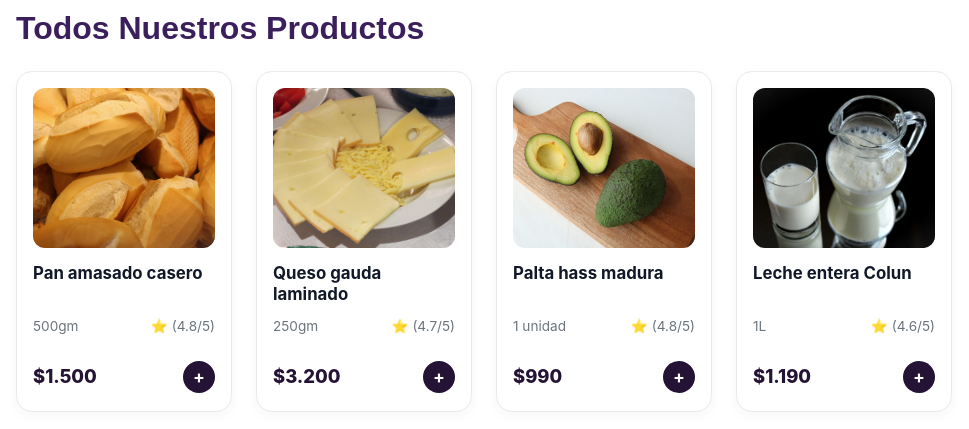
Test: Pruebas unitarias para Catálogo de Productos › agrega un producto nuevo al carrito e incrementa su cantidad al presionar +
# Primer clic en 'Pan amasado casero'
Click the button named "Aumentar cantidad": (199, 377) x1=183 y1=361 x2=215 y2=393
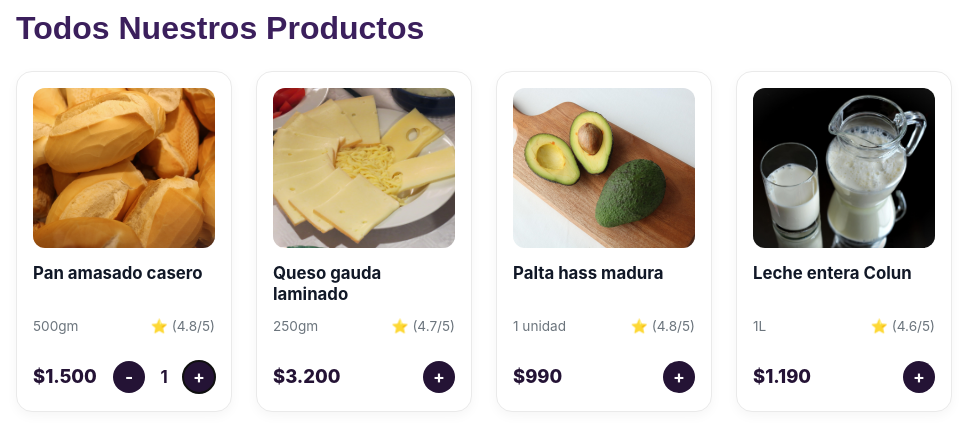
Expected: the text "1" is shown, x1=160 y1=366 x2=168 y2=386
# Segundo clic en 'Pan amasado casero'
Click the button named "Aumentar cantidad": (199, 377) x1=183 y1=361 x2=215 y2=393
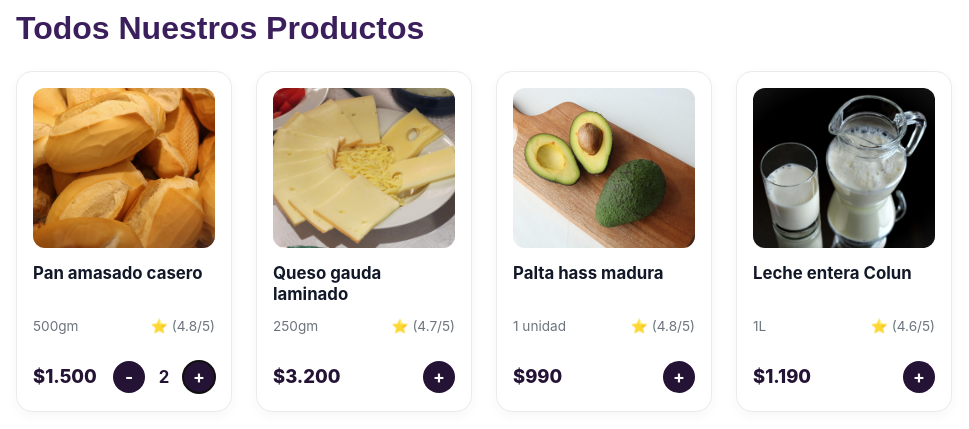
Expected: the text "2" is shown, x1=159 y1=366 x2=169 y2=386
